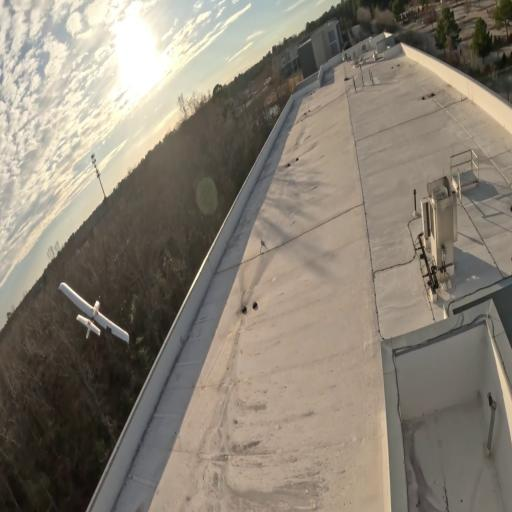uav: (58, 277, 132, 349)
